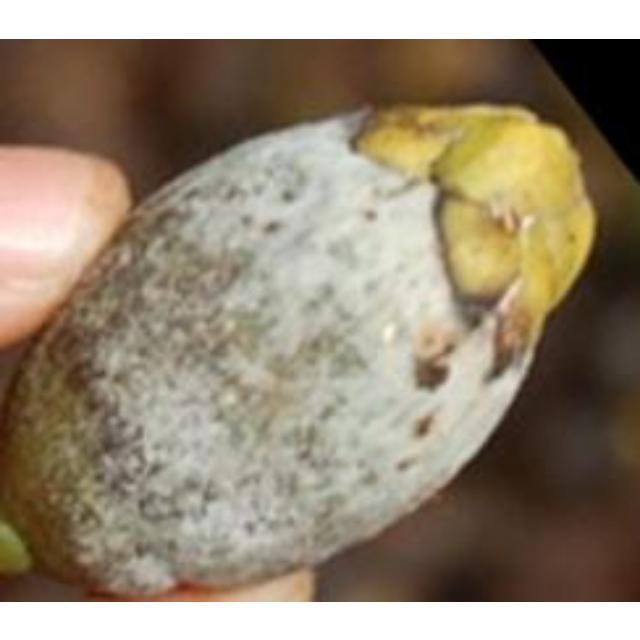damaged: (0, 104, 601, 599)
